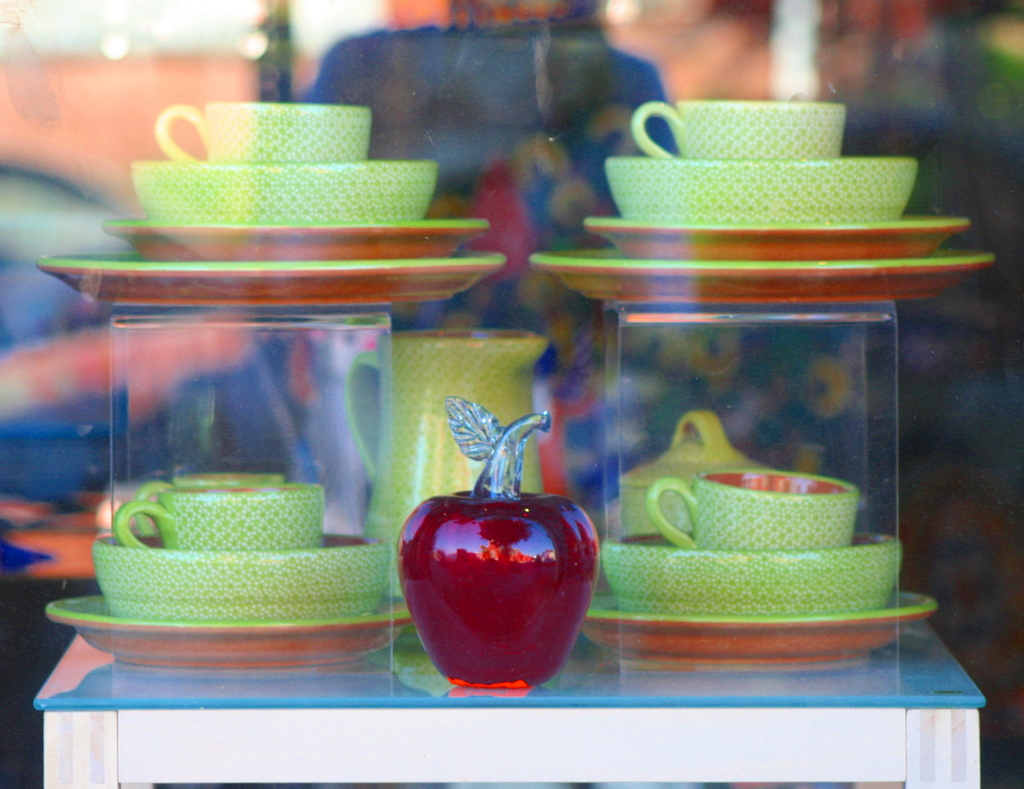Apple: (382, 431, 604, 685)
